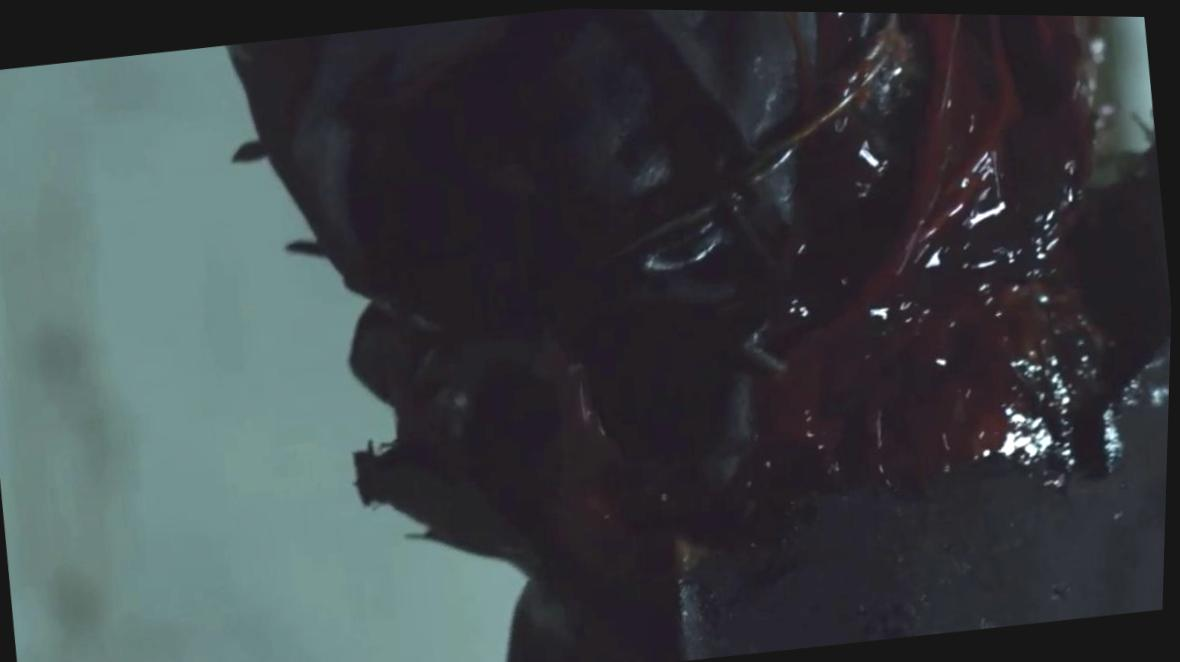Fire: (355, 8, 1173, 644)
